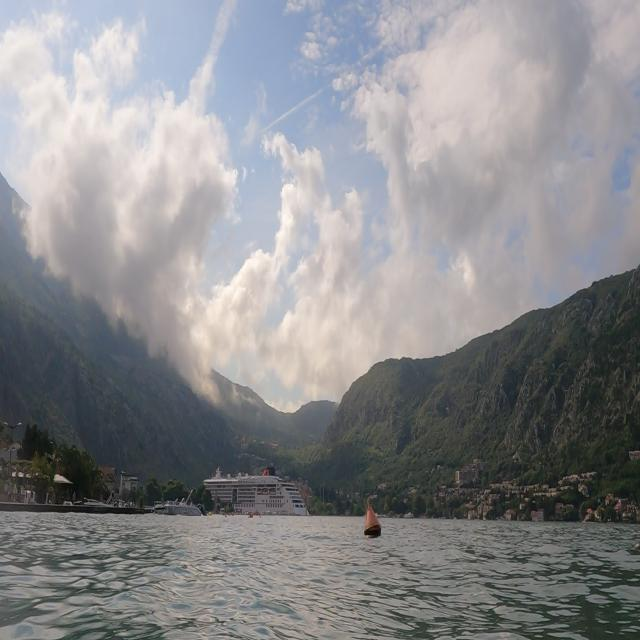boat: (200, 461, 315, 522), (146, 488, 206, 526)
buoy: (361, 495, 384, 545)
